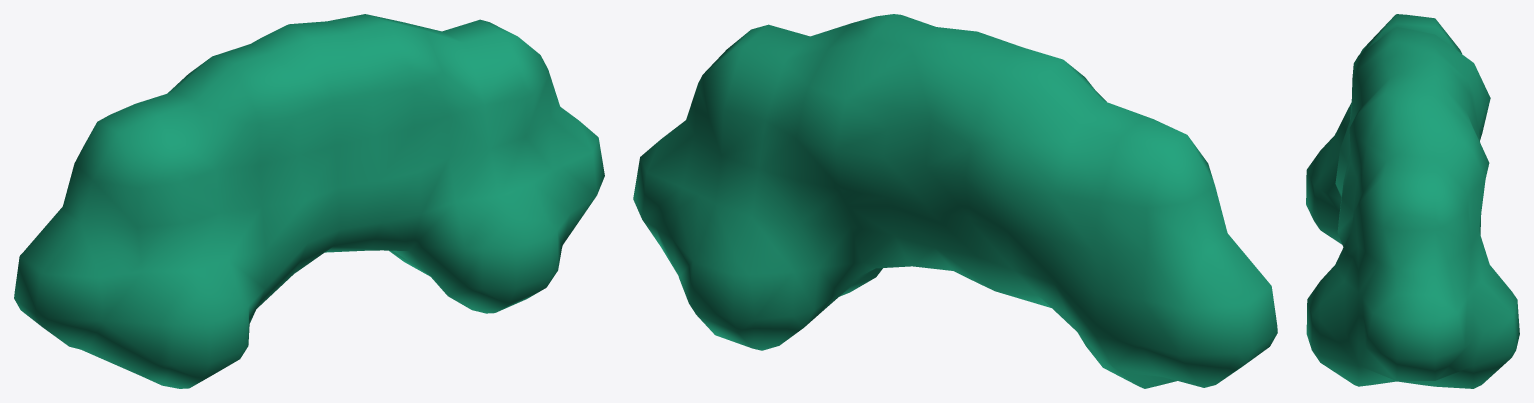
Rendered from structure-molecular-surface.obj.
3 renders of one model, left to right at view 1: azimuth 30°, elevation 25°; view 2: azimuth 150°, elevation 25°; view 3: azimuth 270°, elevation 25°, orthographic. The views are drawn at different scales.
Size of the model in its own units: 14.87 by 7.43 by 5.58.
